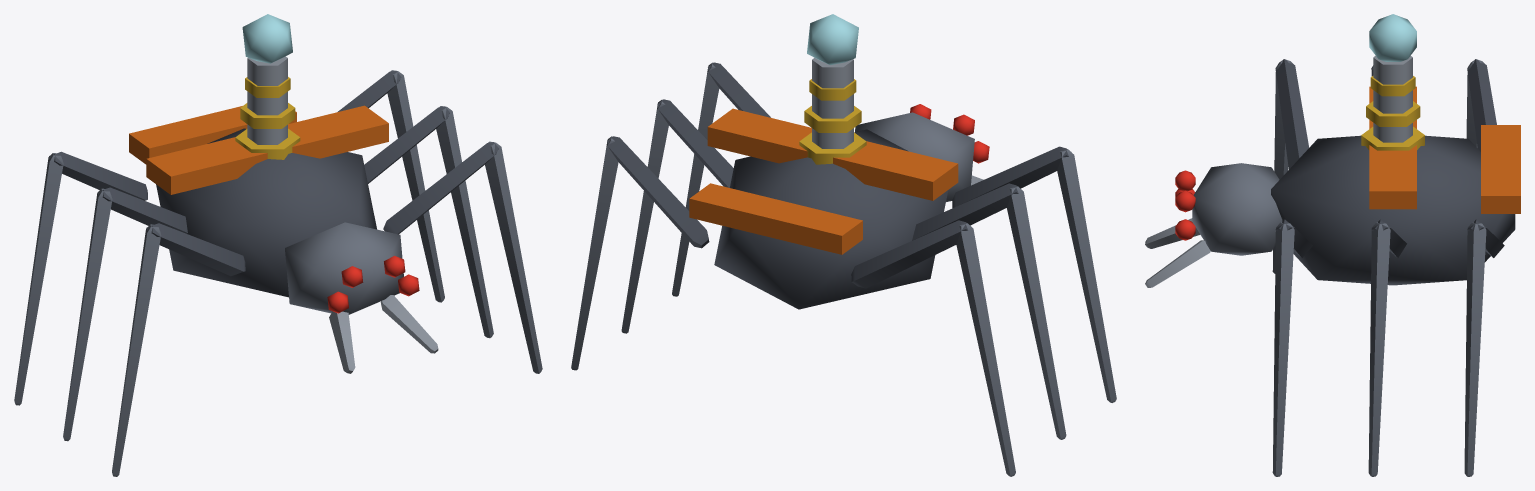
The model's file is e_maschinen_funkenspinne.glb.
3 views of the same model, side by side, from view 1: azimuth 30°, elevation 25°; view 2: azimuth 150°, elevation 25°; view 3: azimuth 270°, elevation 25° (orthographic). The views are drawn at different scales.
Parts seen in each view (by area): view 1: body; view 2: body; view 3: body.
Boxes of the visible parts, box(x1,y1,x2,y2) form: body: box(14, 14, 542, 476); body: box(571, 14, 1116, 476); body: box(1145, 14, 1520, 476).
Bounding box in the file's own units: 1.47 × 1.2 × 1.13.
